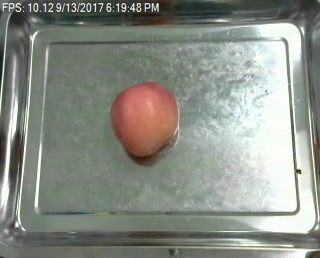Apple: (109, 80, 178, 162)
